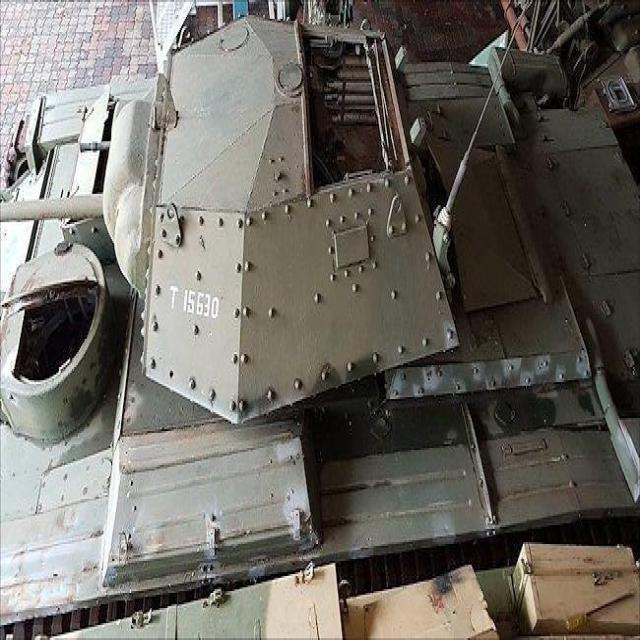MIL_MBT: (16, 53, 623, 544)
